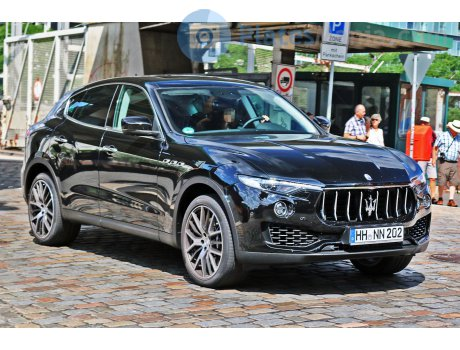License Plates: (356, 228, 406, 238)
